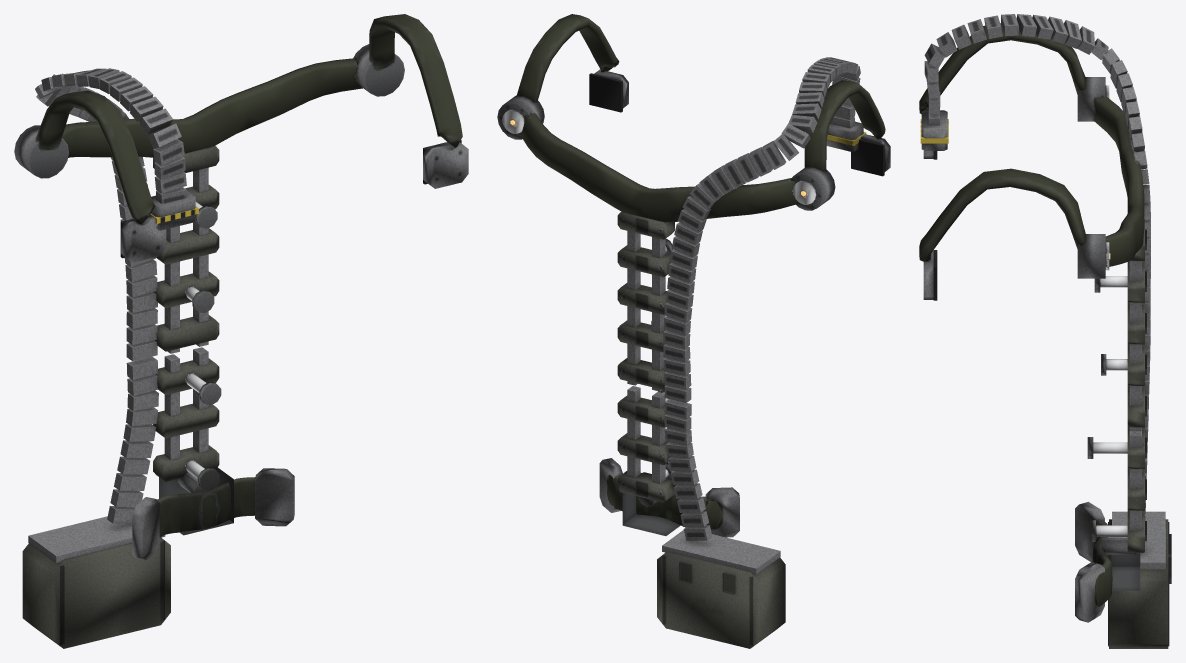
Rendered from dl1_dorsal_load_frame.gltf.
3 views of the same model, side by side, from view 1: azimuth 30°, elevation 25°; view 2: azimuth 150°, elevation 25°; view 3: azimuth 270°, elevation 25° (orthographic). The views are drawn at different scales.
Parts seen in each view (by area): view 1: B_chest__dl1_dorsal_load_frame, B_hips__dl1_dorsal_load_frame, B_spine__dl1_dorsal_load_frame; view 2: B_chest__dl1_dorsal_load_frame, B_hips__dl1_dorsal_load_frame, B_spine__dl1_dorsal_load_frame; view 3: B_chest__dl1_dorsal_load_frame, B_hips__dl1_dorsal_load_frame, B_spine__dl1_dorsal_load_frame.
Boxes of the visible parts, x1,y1,x2,y2 form: B_chest__dl1_dorsal_load_frame: (14,14,468,361); B_hips__dl1_dorsal_load_frame: (22,466,294,648); B_spine__dl1_dorsal_load_frame: (107,347,221,523); B_chest__dl1_dorsal_load_frame: (497,14,890,402); B_hips__dl1_dorsal_load_frame: (599,458,785,648); B_spine__dl1_dorsal_load_frame: (617,386,712,540); B_chest__dl1_dorsal_load_frame: (919,14,1150,428); B_hips__dl1_dorsal_load_frame: (1075,501,1171,648); B_spine__dl1_dorsal_load_frame: (1087,409,1148,552).
Bounding box in the file's own units: 0.448 × 0.6939 × 0.272.
1 material, 1 textured.
